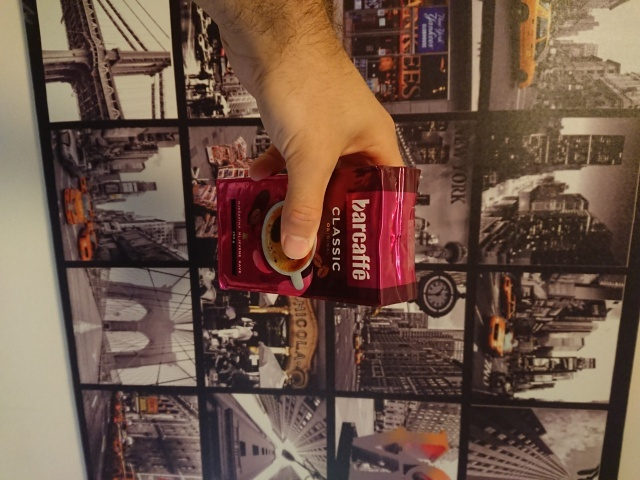Barcaffe Classic Original 225g: (214, 162, 423, 311)
